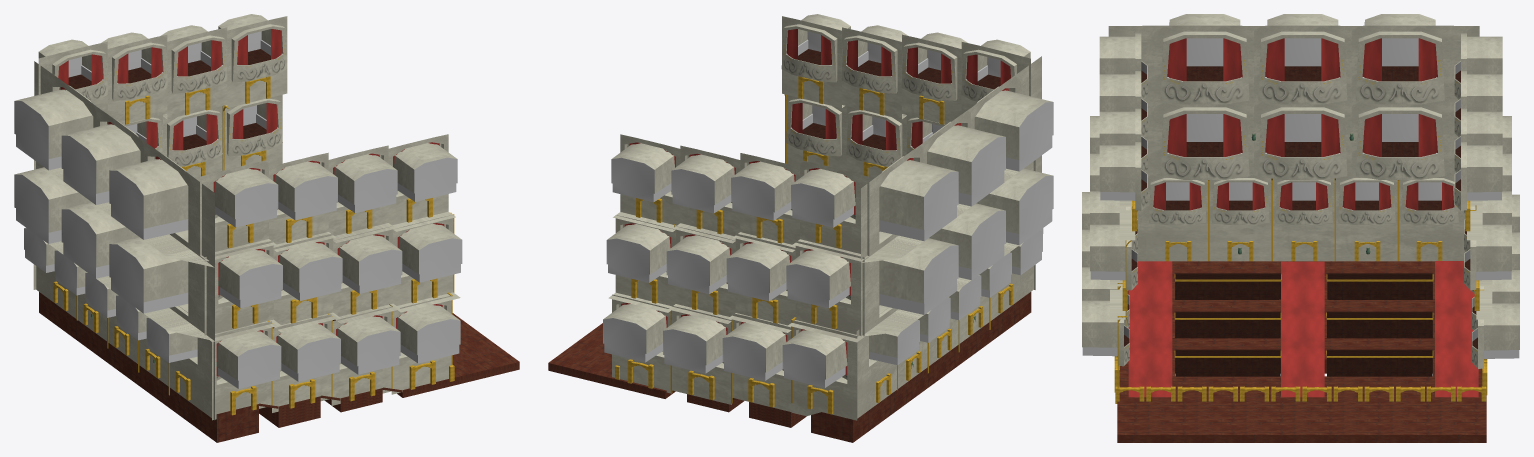
The model's file is SceneV1.FBX.
3 views of the same model, side by side, from view 1: azimuth 30°, elevation 25°; view 2: azimuth 150°, elevation 25°; view 3: azimuth 270°, elevation 25° (orthographic). The views are drawn at different scales.
Visible parts, largest first — view 1: Box002; view 2: Box002; view 3: Box002.
Part boxes in pixels (x1,y1,x2,y2): Box002: [14, 14, 519, 442]; Box002: [548, 14, 1053, 442]; Box002: [1082, 14, 1519, 442].
Size of the model in its own units: 116 by 85 by 122.
